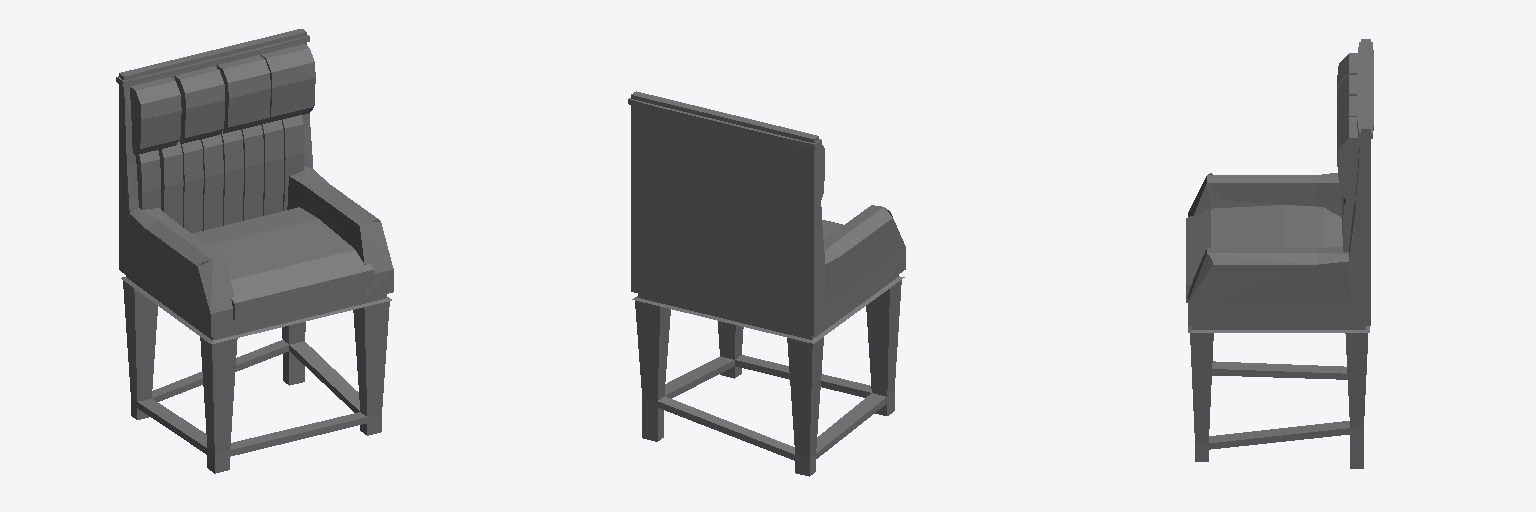
The model's file is Bar Chair.obj.
The picture shows the model from 3 angles: view 1: azimuth 30°, elevation 25°; view 2: azimuth 150°, elevation 25°; view 3: azimuth 270°, elevation 25°; orthographic projection.
Visible parts, largest first — view 1: pCube15; view 2: pCube15; view 3: pCube15.
Part boxes in pixels (left/top/right/bottom): pCube15: left=116, top=29, right=393, bottom=473; pCube15: left=628, top=91, right=905, bottom=476; pCube15: left=1186, top=39, right=1373, bottom=468.
Size of the model in its own units: 5.17 by 9.12 by 4.53.